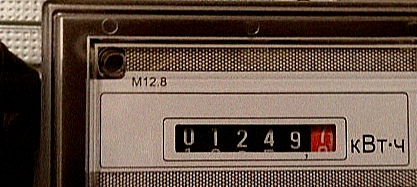0: (181, 127, 195, 147)
1: (208, 127, 220, 148)
2: (233, 128, 249, 150)
4: (262, 128, 275, 148)
7: (316, 125, 329, 145)
9: (288, 130, 301, 151)
screen: (159, 114, 350, 165)
